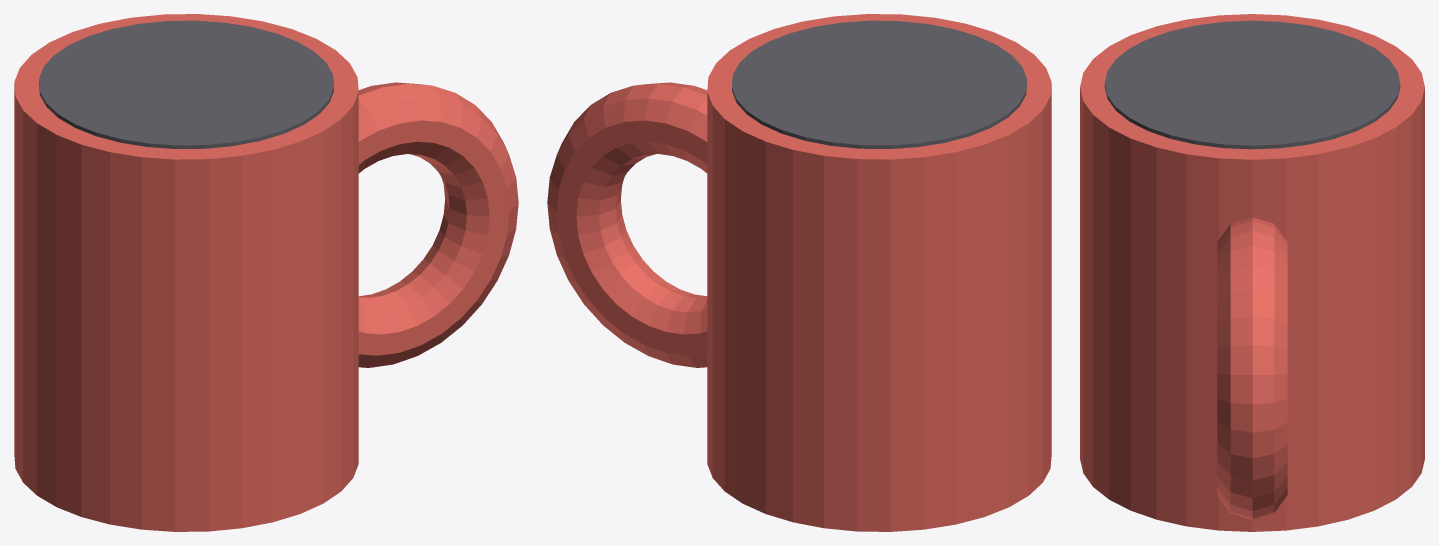
The model's file is mug.glb.
The picture shows the model from 3 angles, left to right: view 1: azimuth 30°, elevation 25°; view 2: azimuth 150°, elevation 25°; view 3: azimuth 270°, elevation 25°; orthographic projection.
Parts seen in each view (by area): view 1: mug_body, mug_top, mug_handle; view 2: mug_body, mug_top, mug_handle; view 3: mug_body, mug_top, mug_handle.
Boxes of the visible parts, x1,y1,x2,y2 form: mug_body: (14,14,358,531); mug_top: (39,20,333,148); mug_handle: (358,82,518,367); mug_body: (707,14,1051,531); mug_top: (732,20,1026,148); mug_handle: (547,82,707,367); mug_body: (1080,14,1424,531); mug_top: (1104,20,1400,149); mug_handle: (1217,217,1287,519).
Size of the model in its own units: 0.134 by 0.101 by 0.084.
